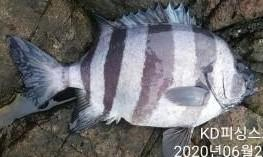fish: (0, 4, 262, 156)
